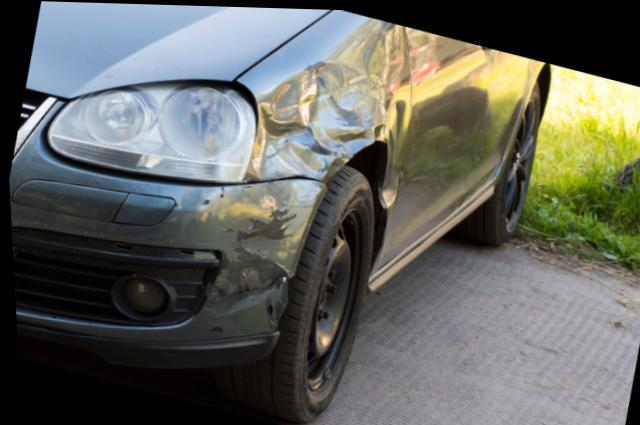dent: (249, 58, 384, 178)
scratch: (199, 202, 296, 335)
